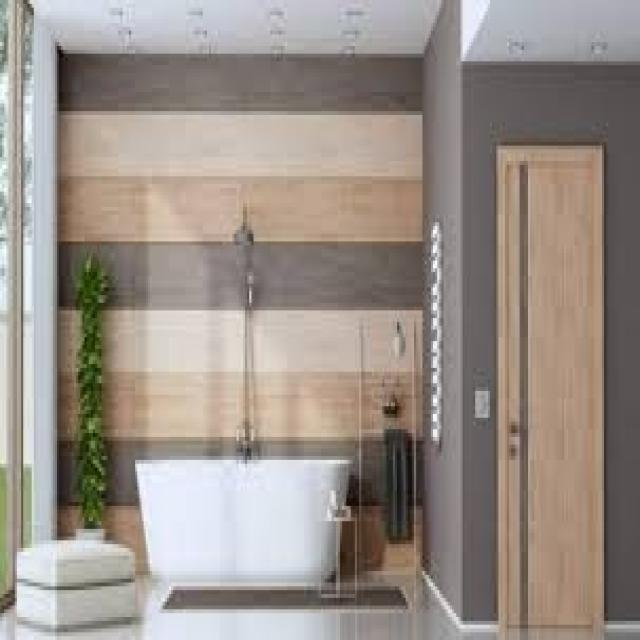door: (494, 142, 606, 640)
